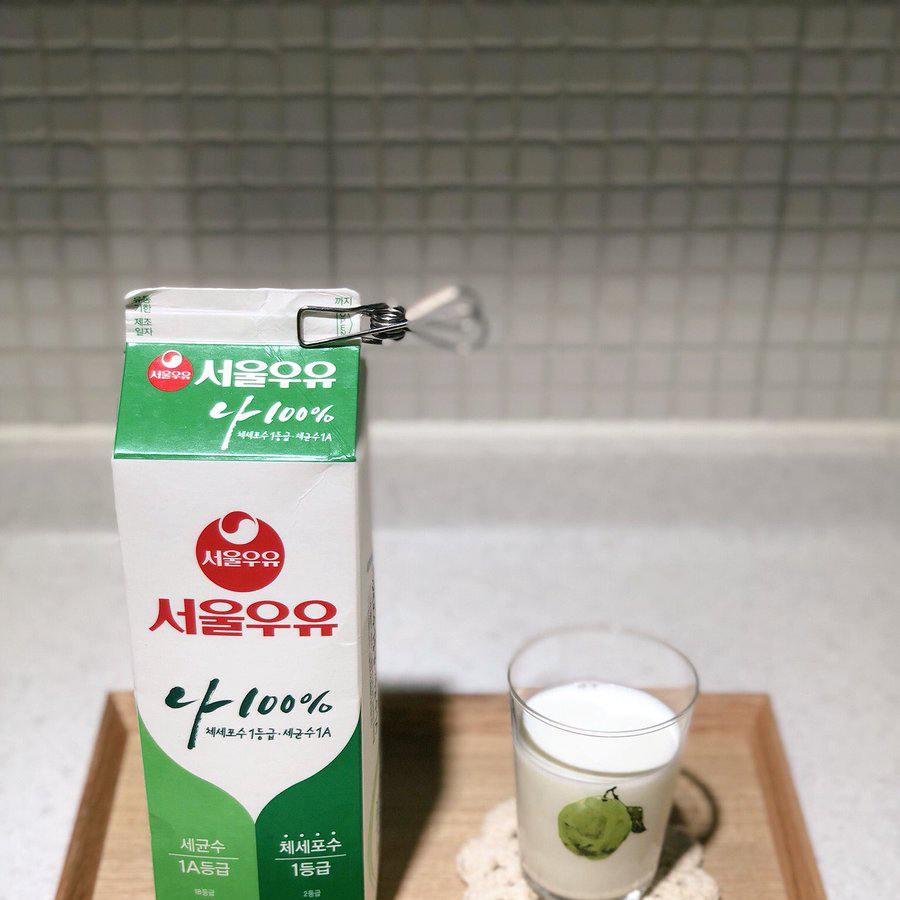milk: (110, 286, 373, 900)
